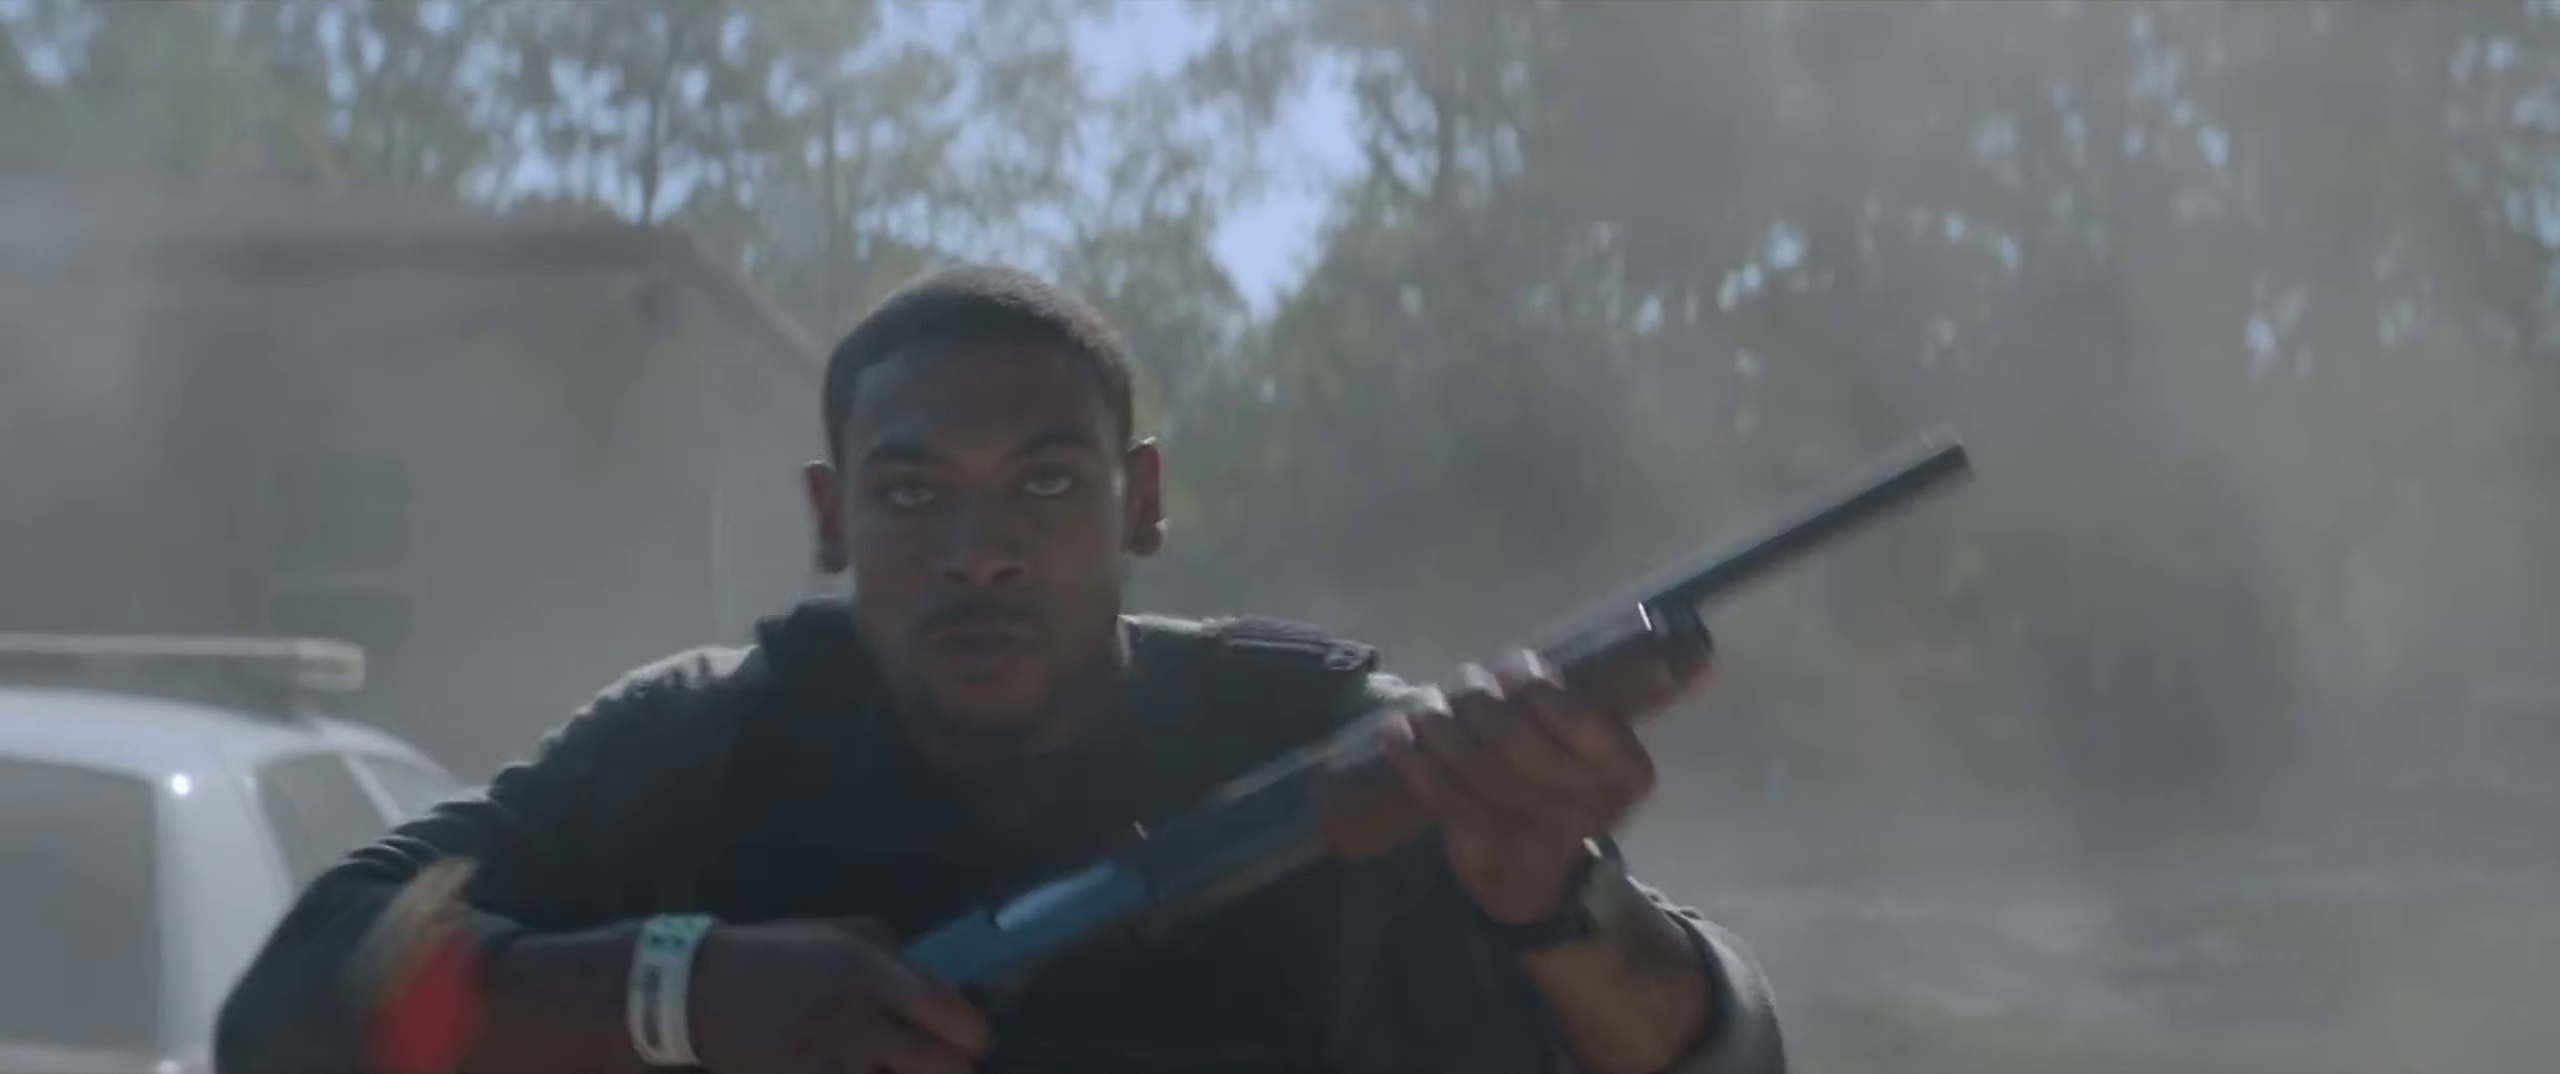gun: (869, 423, 1985, 1074)
p_w_gun: (214, 248, 1993, 1074)
